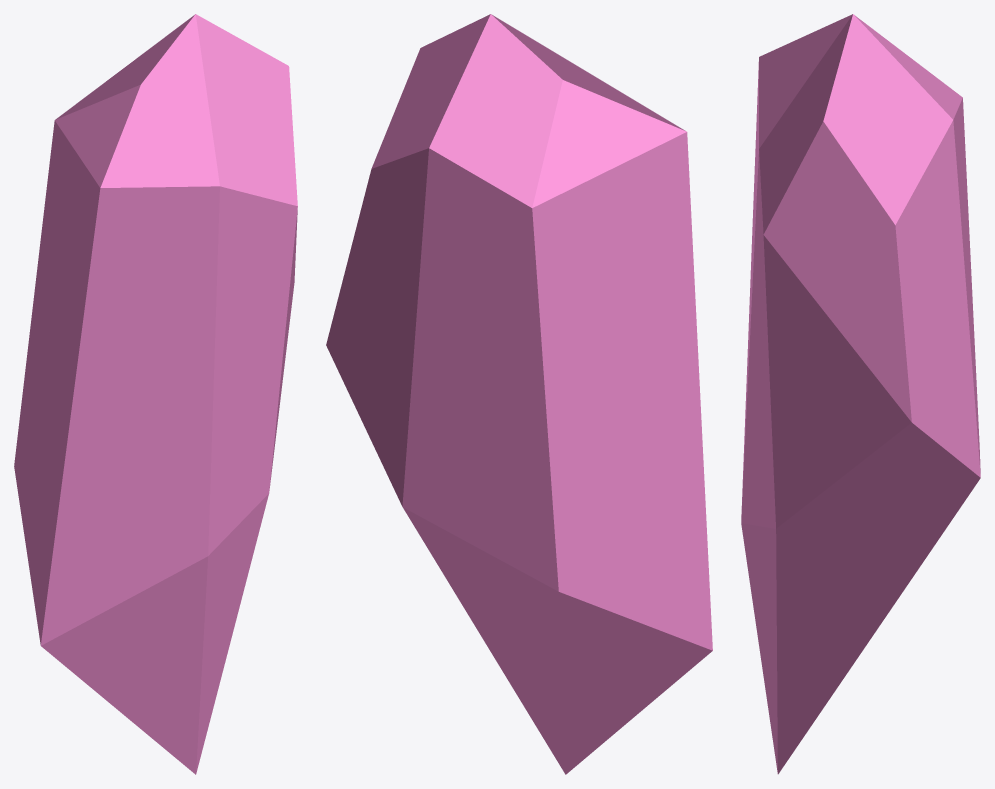
Rendered from FloatingRock_2.fbx.
3 renders of one model, left to right at view 1: azimuth 30°, elevation 25°; view 2: azimuth 150°, elevation 25°; view 3: azimuth 270°, elevation 25°, orthographic. The views are drawn at different scales.
Parts seen in each view (by area): view 1: FloatingRock_2; view 2: FloatingRock_2; view 3: FloatingRock_2.
Part boxes in pixels (x1,y1,x2,y2): FloatingRock_2: (14, 14, 297, 774); FloatingRock_2: (326, 14, 712, 774); FloatingRock_2: (741, 14, 980, 774).
Size of the model in its own units: 318 by 200 by 719.
